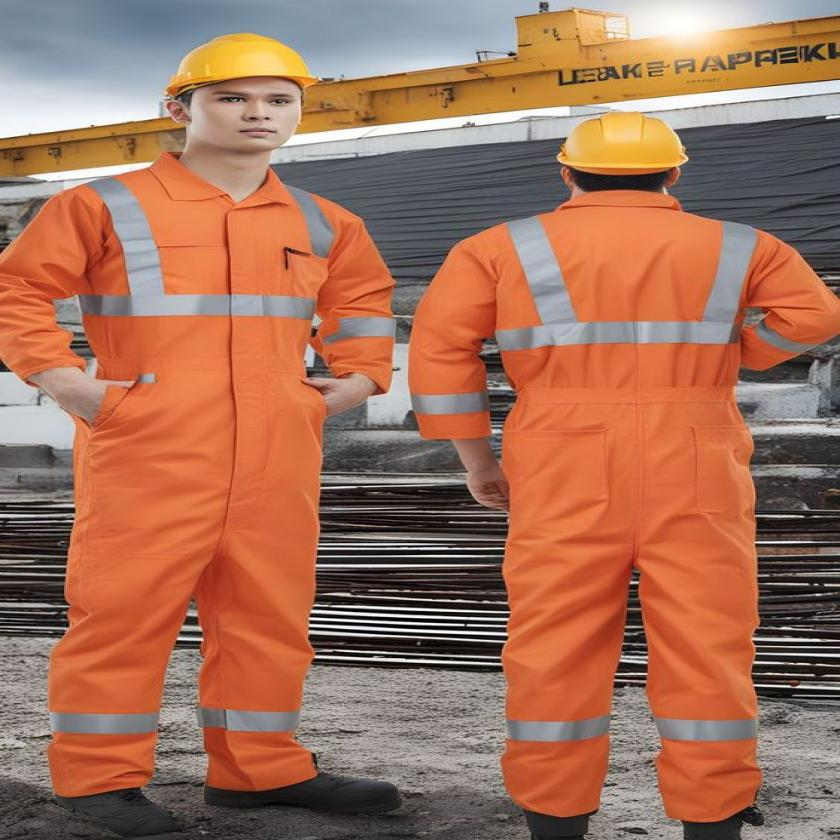Con_casco: (164, 24, 350, 185), (537, 113, 712, 217)
